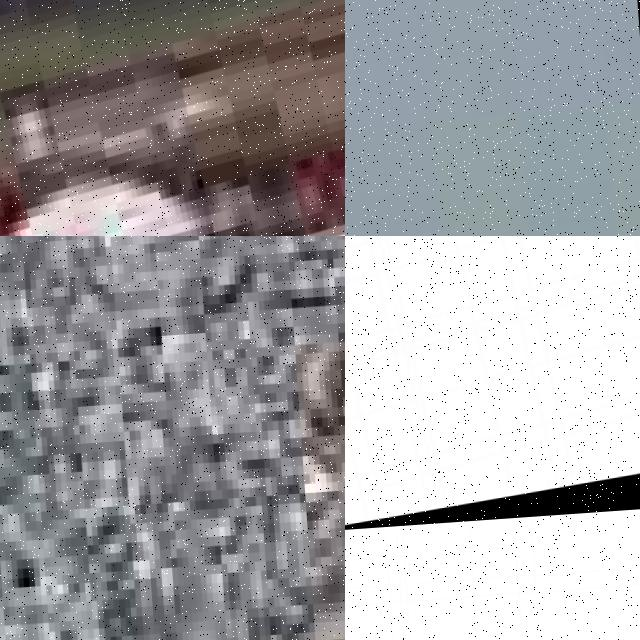drone: (345, 236, 640, 533), (0, 0, 345, 236)
